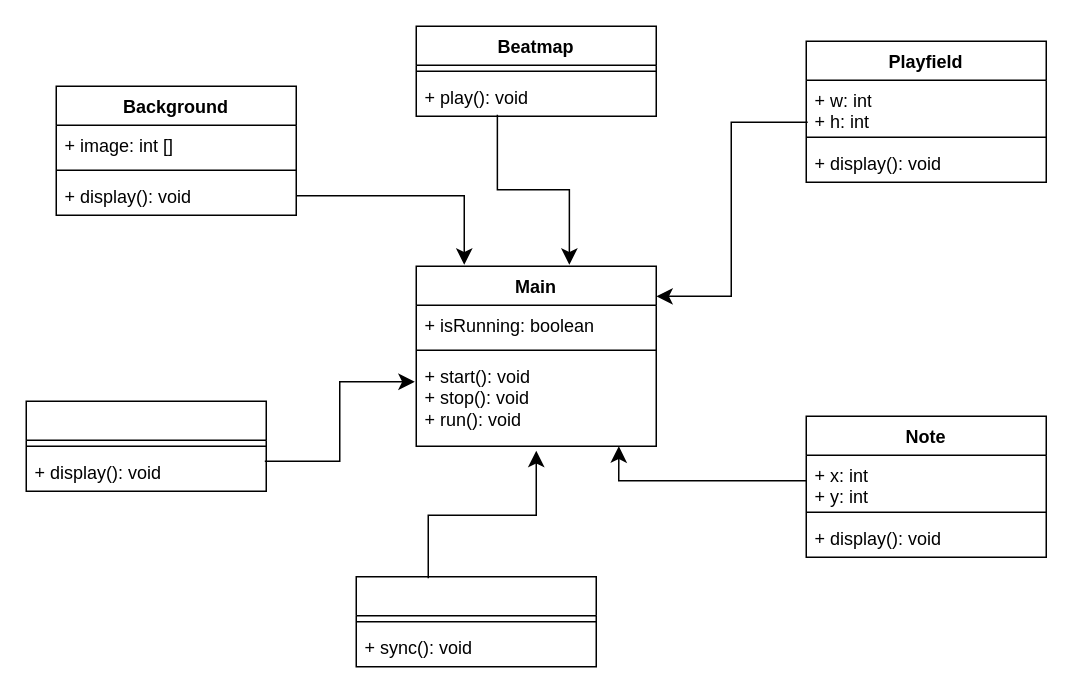
Image size: 1073x698. Some labels were removed from this diagram. Here are the shapes that lost their labels. From the top down, the box of each, then its label:
(25, 400, 266, 491): Home
(355, 575, 596, 667): NoteSync
